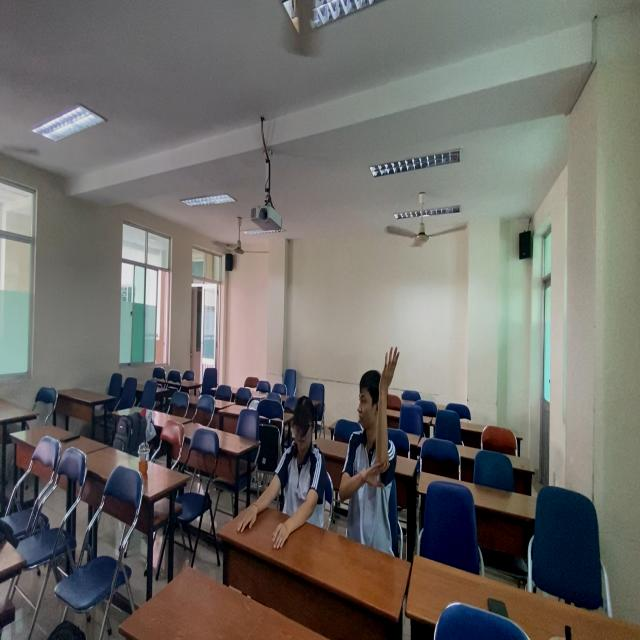raise_hand: (335, 341, 404, 533)
